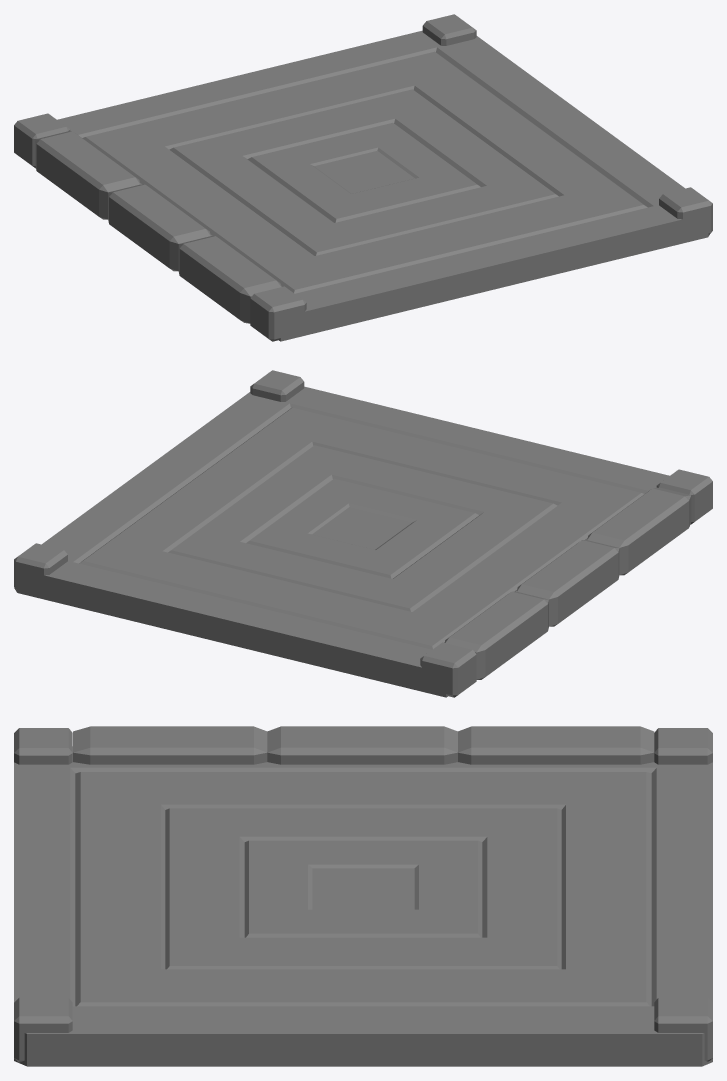
Rendered from Diagonal intersection tile.fbx.
3 views of the same model, one above another, from view 1: azimuth 30°, elevation 25°; view 2: azimuth 150°, elevation 25°; view 3: azimuth 270°, elevation 25° (orthographic). The views are drawn at different scales.
Visible parts, largest first — view 1: Diagonal intersection; view 2: Diagonal intersection; view 3: Diagonal intersection.
Part boxes in pixels (x1,y1,x2,y2): Diagonal intersection: (14,14,712,341); Diagonal intersection: (14,370,712,697); Diagonal intersection: (14,726,712,1066).
Size of the model in its own units: 375 by 27.86 by 375.
